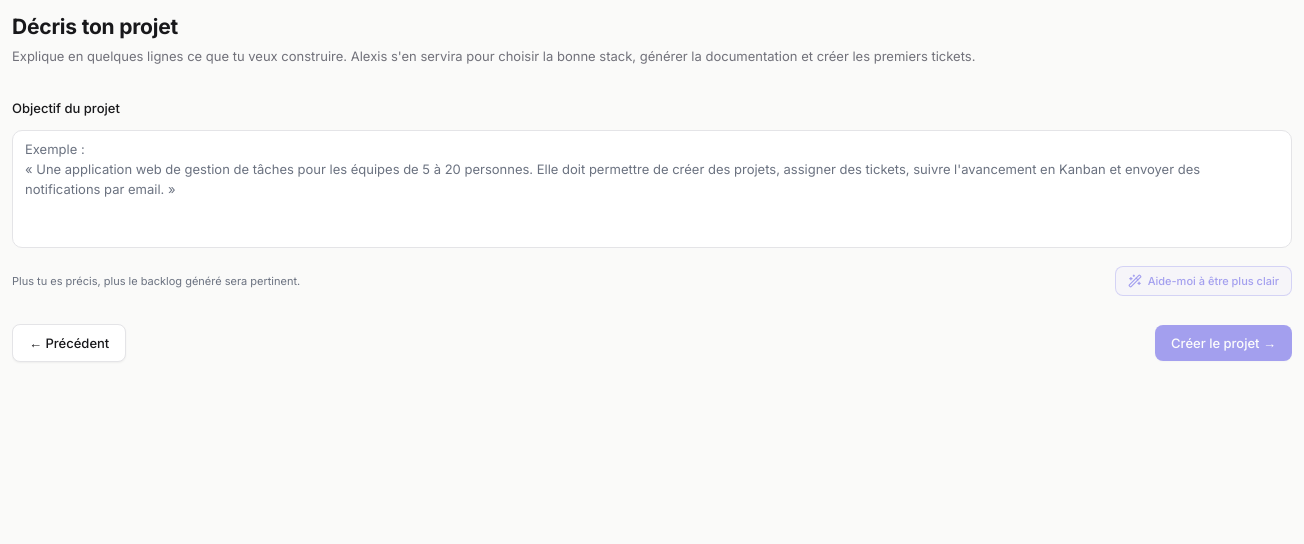
Test case: DescriptionPage — bouton Aide-moi à être plus clair › au clic, affiche la carte de prévisualisation Markdown
Replace the text in the text box with "une app de livraison" at (652, 189), box 12,130 -> 1292,248
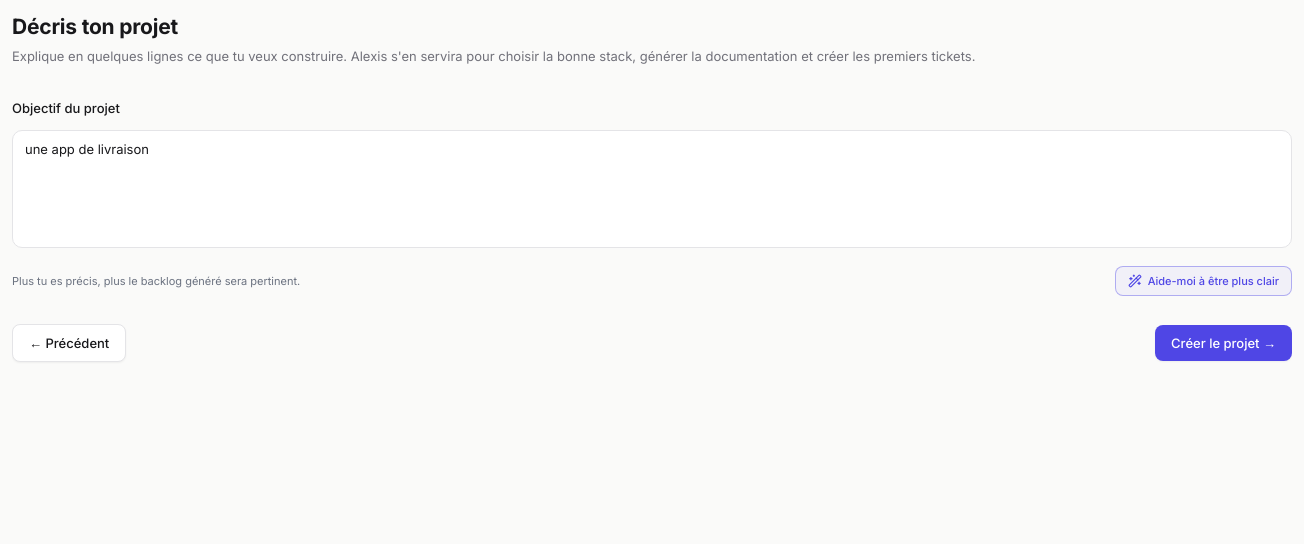
Click the button "Aide-moi à être plus clair" at (1203, 281), box 1115,266 -> 1292,296
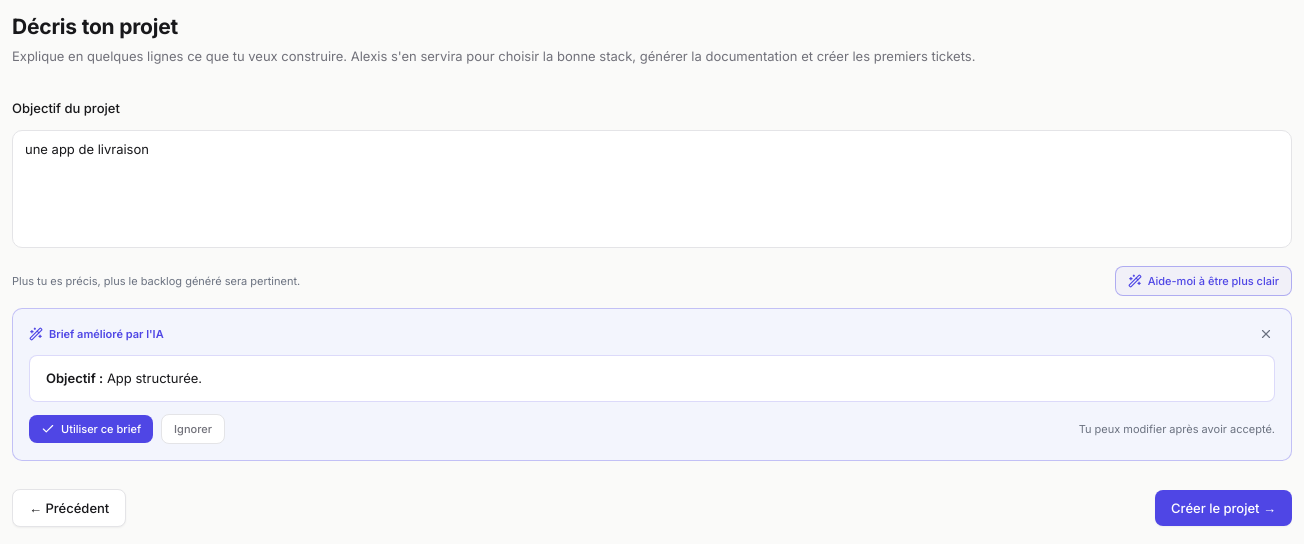
Expected: the text "Brief amélioré par l'IA" is shown, 49,326 -> 164,342
